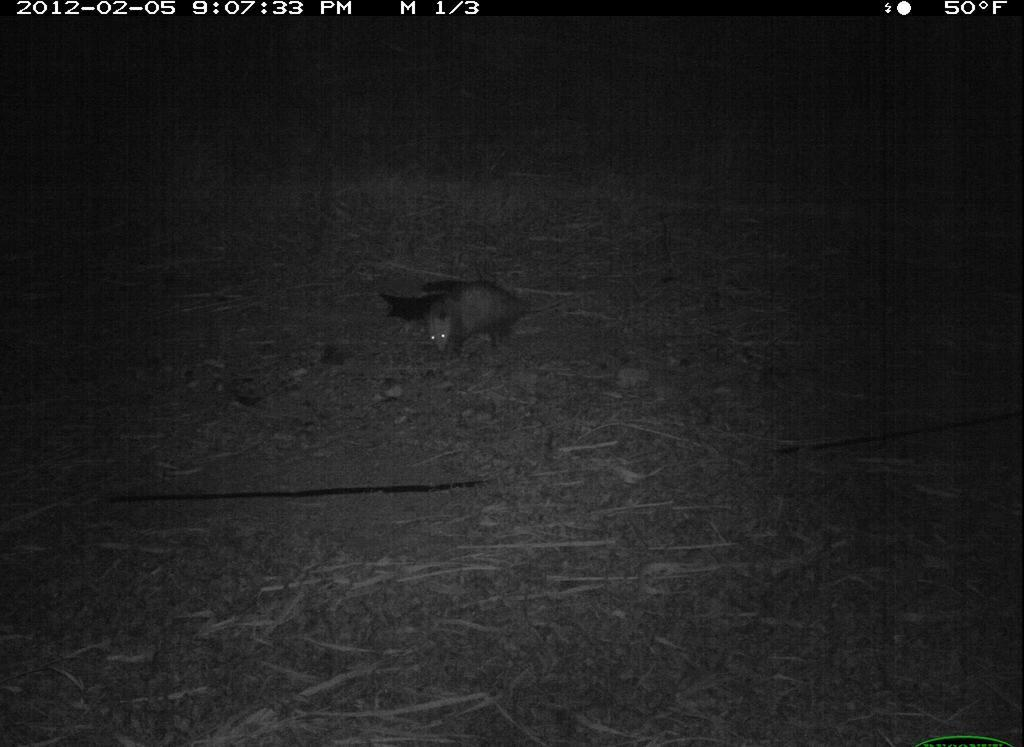opossum: (400, 274, 564, 376)
